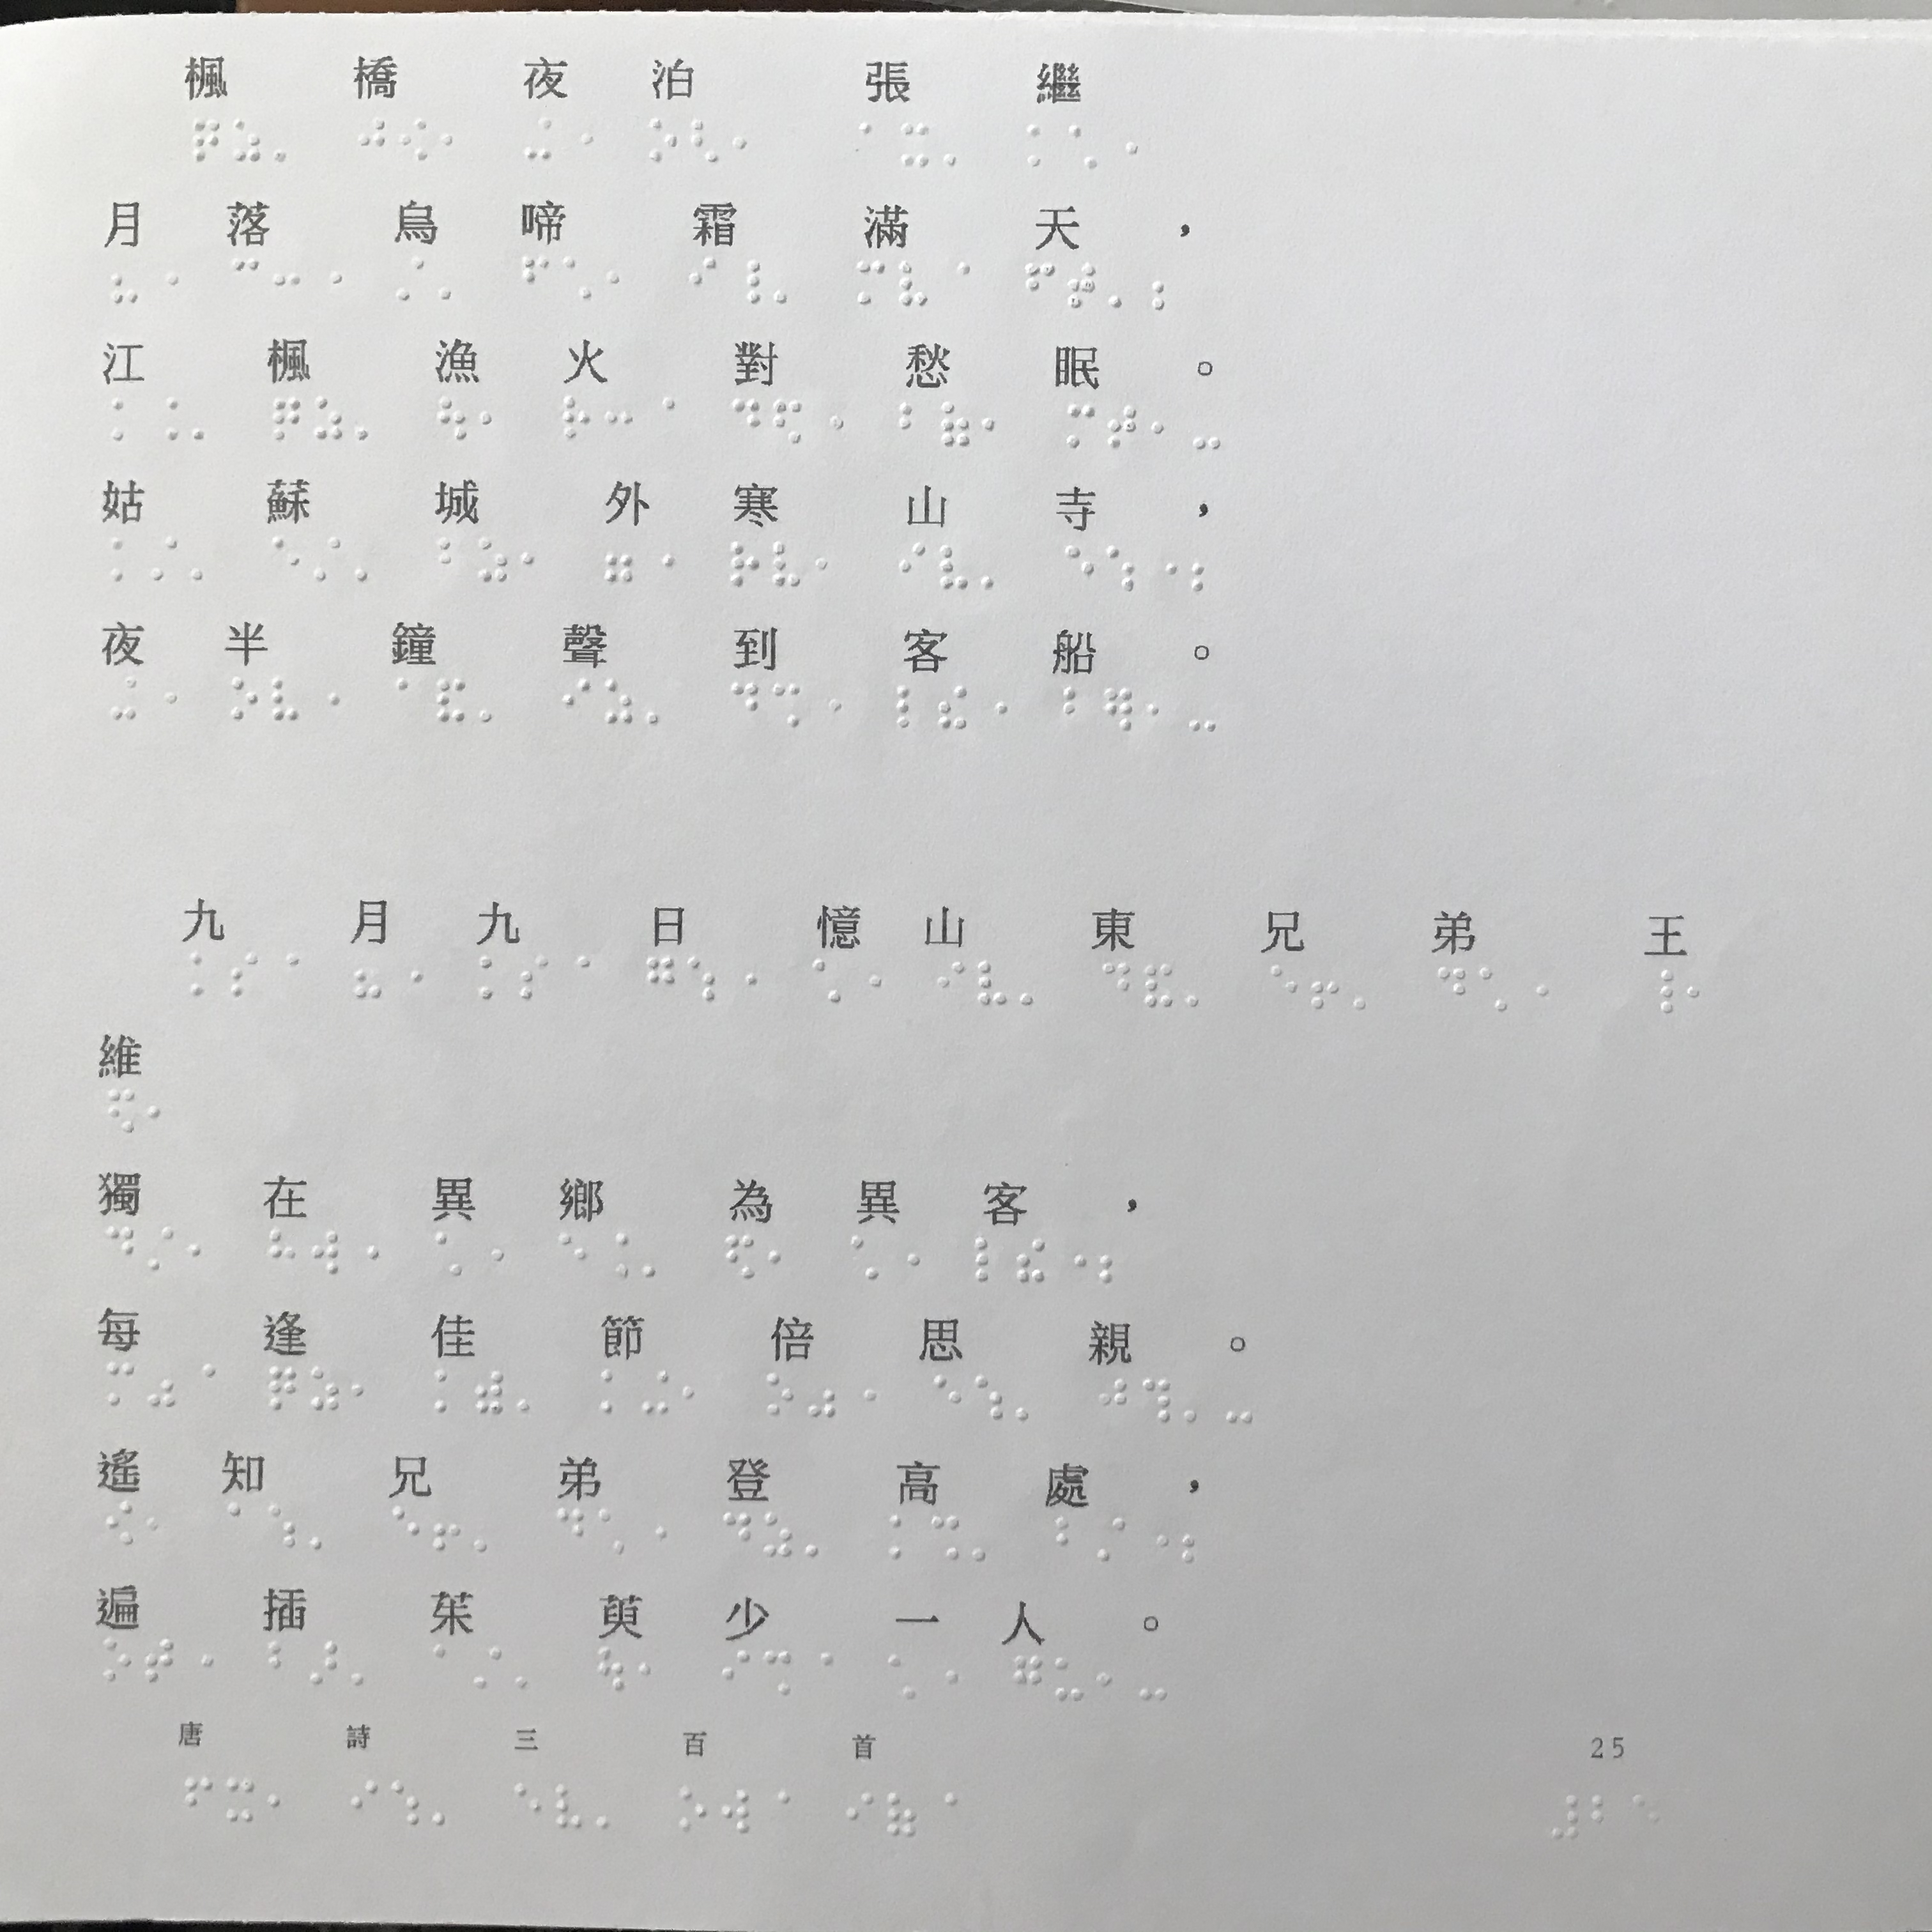Braille: (939, 681, 971, 734), (1012, 1651, 1044, 1704), (649, 115, 681, 166), (1056, 1652, 1085, 1709), (724, 1231, 755, 1281), (269, 1362, 301, 1412), (1104, 683, 1134, 734), (1645, 966, 1675, 1017), (398, 117, 430, 165), (524, 115, 556, 163), (437, 396, 469, 444), (435, 676, 467, 724), (191, 115, 221, 165), (688, 258, 718, 308), (1067, 262, 1097, 311), (773, 681, 803, 731), (978, 959, 1008, 1008), (106, 1088, 136, 1138), (931, 1514, 961, 1564), (764, 1647, 794, 1697), (1550, 1792, 1580, 1842), (731, 541, 763, 587), (359, 115, 387, 166), (934, 1371, 962, 1422), (775, 400, 805, 448), (941, 403, 971, 451), (941, 545, 971, 593), (605, 679, 635, 727), (522, 954, 552, 1001), (1145, 962, 1175, 1010), (147, 1362, 177, 1410), (856, 262, 888, 306), (902, 120, 931, 170), (899, 260, 927, 310), (731, 678, 759, 727), (1056, 1516, 1085, 1566), (1182, 1516, 1210, 1566), (722, 1789, 750, 1838), (1024, 262, 1054, 308), (605, 541, 635, 587), (230, 674, 260, 720), (646, 955, 676, 1001), (1311, 964, 1341, 1010), (1141, 1378, 1171, 1424), (1226, 1380, 1256, 1426), (890, 1651, 916, 1702), (556, 1780, 582, 1831), (564, 253, 593, 301), (315, 395, 343, 442), (563, 396, 591, 444), (1109, 403, 1138, 451), (1192, 409, 1224, 451), (478, 538, 506, 586), (232, 950, 260, 998), (356, 952, 384, 1000), (814, 957, 842, 1005), (936, 957, 964, 1005), (1438, 964, 1467, 1012), (1019, 1237, 1047, 1284), (476, 1369, 504, 1417), (766, 1369, 794, 1417), (807, 1369, 835, 1417), (975, 1373, 1003, 1421), (1012, 1375, 1040, 1422), (106, 1499, 134, 1546), (888, 1513, 916, 1560), (145, 1637, 173, 1684), (888, 1790, 916, 1838), (147, 1226, 177, 1270), (101, 1638, 131, 1683), (186, 1642, 216, 1686), (1633, 1796, 1663, 1840), (692, 117, 718, 166), (272, 674, 299, 724), (108, 1359, 134, 1408), (932, 1652, 959, 1702), (1095, 1656, 1122, 1706), (731, 120, 759, 166), (858, 119, 886, 165), (524, 253, 552, 299), (479, 398, 508, 444), (1067, 403, 1095, 449), (272, 536, 301, 582), (773, 541, 801, 587), (899, 541, 927, 587), (1108, 545, 1136, 591), (1104, 959, 1132, 1005), (764, 1513, 793, 1559), (1099, 1516, 1127, 1562), (598, 1647, 626, 1693), (637, 1649, 665, 1695), (1138, 1656, 1166, 1702), (563, 679, 593, 722), (111, 260, 138, 308), (396, 255, 423, 303), (110, 536, 136, 584), (856, 959, 883, 1007), (1184, 962, 1210, 1010), (1481, 964, 1507, 1012), (269, 1226, 295, 1274), (437, 1231, 464, 1279), (561, 1230, 587, 1277), (603, 1231, 630, 1279), (853, 1235, 879, 1283), (977, 1235, 1003, 1283), (393, 1506, 419, 1553), (971, 1516, 998, 1564), (1141, 1516, 1168, 1564), (234, 120, 262, 165), (234, 257, 262, 301), (941, 260, 970, 304), (734, 398, 763, 442), (899, 400, 927, 444), (437, 536, 465, 580), (145, 1090, 173, 1134), (311, 1230, 340, 1274), (188, 1364, 216, 1408), (724, 1513, 752, 1557), (763, 1789, 791, 1833), (846, 1790, 874, 1835), (1070, 124, 1097, 170), (274, 257, 301, 303), (736, 260, 763, 306), (152, 536, 179, 582), (313, 538, 340, 584), (111, 676, 138, 722), (1063, 683, 1090, 729), (688, 957, 715, 1003), (1019, 962, 1046, 1008), (313, 1366, 340, 1412), (642, 1368, 669, 1414), (598, 1509, 625, 1555), (311, 1642, 338, 1688), (681, 1787, 708, 1833), (1592, 1794, 1619, 1840), (1067, 547, 1095, 589), (1150, 547, 1178, 589), (644, 683, 672, 725), (1099, 1376, 1127, 1419), (269, 1642, 297, 1684), (724, 1649, 752, 1691), (1030, 122, 1054, 170), (897, 683, 922, 731), (1272, 962, 1297, 1010), (1686, 968, 1711, 1016), (269, 1502, 294, 1550), (568, 119, 594, 163), (315, 257, 341, 301), (1154, 267, 1180, 311), (152, 398, 179, 442), (274, 398, 301, 442), (605, 398, 632, 442), (816, 683, 842, 727), (274, 952, 301, 996), (1353, 968, 1380, 1012), (1522, 968, 1548, 1012), (106, 1224, 133, 1269), (1102, 1238, 1129, 1283), (435, 1368, 462, 1412), (435, 1644, 462, 1688), (809, 1651, 835, 1695), (395, 1782, 421, 1826), (478, 681, 506, 722), (433, 1513, 462, 1553), (557, 1507, 586, 1548), (513, 1651, 541, 1691), (929, 1792, 957, 1833), (605, 255, 630, 301), (356, 398, 380, 444), (315, 676, 340, 722), (191, 950, 216, 996), (481, 955, 506, 1001), (770, 1235, 794, 1281), (476, 1645, 501, 1691), (228, 1778, 253, 1824), (1192, 548, 1219, 591), (893, 1238, 920, 1281), (849, 1373, 876, 1415), (803, 1516, 830, 1559), (352, 1778, 379, 1821), (515, 1782, 541, 1824), (442, 119, 465, 166), (274, 120, 299, 165), (943, 124, 968, 168), (520, 540, 545, 584), (398, 676, 423, 720), (564, 954, 589, 998), (188, 1226, 212, 1270), (642, 1233, 667, 1277), (230, 1502, 255, 1546), (349, 1644, 373, 1688), (775, 264, 801, 304), (649, 398, 676, 439), (1187, 694, 1214, 734), (1058, 1242, 1085, 1283), (186, 1776, 212, 1817), (113, 396, 136, 442), (1150, 405, 1173, 451), (817, 541, 840, 587), (437, 258, 462, 301), (819, 403, 844, 446), (649, 545, 674, 587), (1145, 688, 1169, 731), (398, 955, 423, 998), (732, 959, 757, 1001), (481, 1233, 506, 1276), (145, 1502, 170, 1545), (642, 1513, 667, 1555), (594, 1787, 619, 1829), (191, 398, 214, 442), (984, 403, 1007, 448), (356, 540, 379, 584), (984, 686, 1007, 731), (472, 1513, 497, 1553), (154, 262, 177, 304), (1108, 267, 1131, 310), (154, 678, 177, 720), (603, 1369, 626, 1412), (683, 1369, 706, 1412), (308, 1506, 331, 1548), (354, 1233, 379, 1272), (982, 547, 1003, 591), (1185, 1380, 1207, 1424), (1115, 127, 1138, 168), (517, 1373, 540, 1414), (267, 1780, 290, 1821), (350, 1369, 372, 1412), (433, 1787, 456, 1826), (191, 540, 212, 580)
